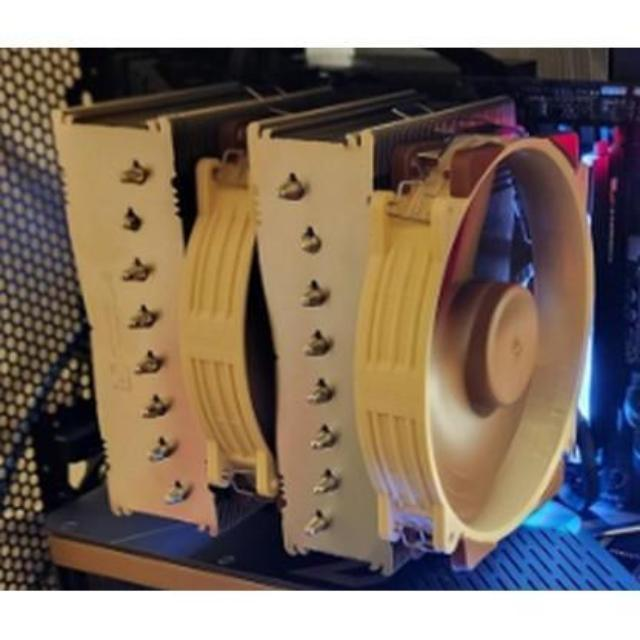CPU_Fan: (46, 81, 598, 559)
